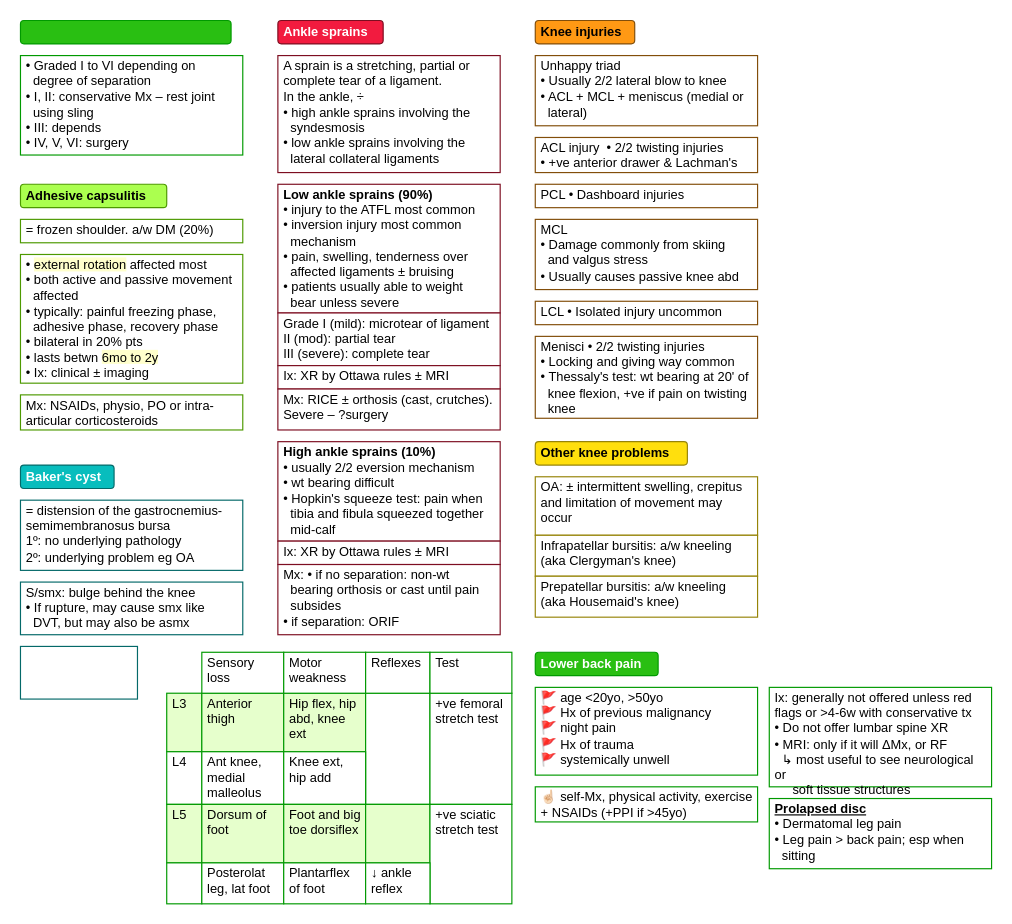
The diagram is 1012 pixels wide and 924 high, and some of its shapes have lost their labels. The shapes that lost their labels are listed below. From the top down, each one's centre as x and y in pixels, then its label:
At (x=125, y=31): "Acromioclavicular joint injury".
At (x=78, y=672): "Mx: children – no tx req. Adults – tx underlying cause".
At (x=397, y=748): "↓ knee reflex".
At (x=397, y=833): "Reflexes intact!!".
At (x=184, y=883): "S1".
